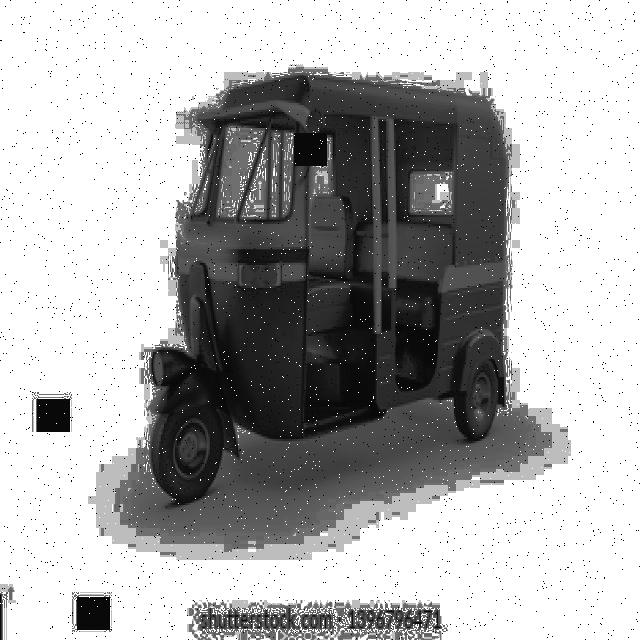Auto-Rickshaw: (136, 55, 546, 523)
